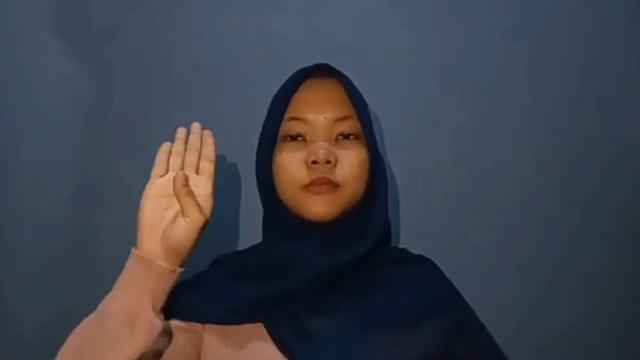B: (138, 122, 216, 262)
